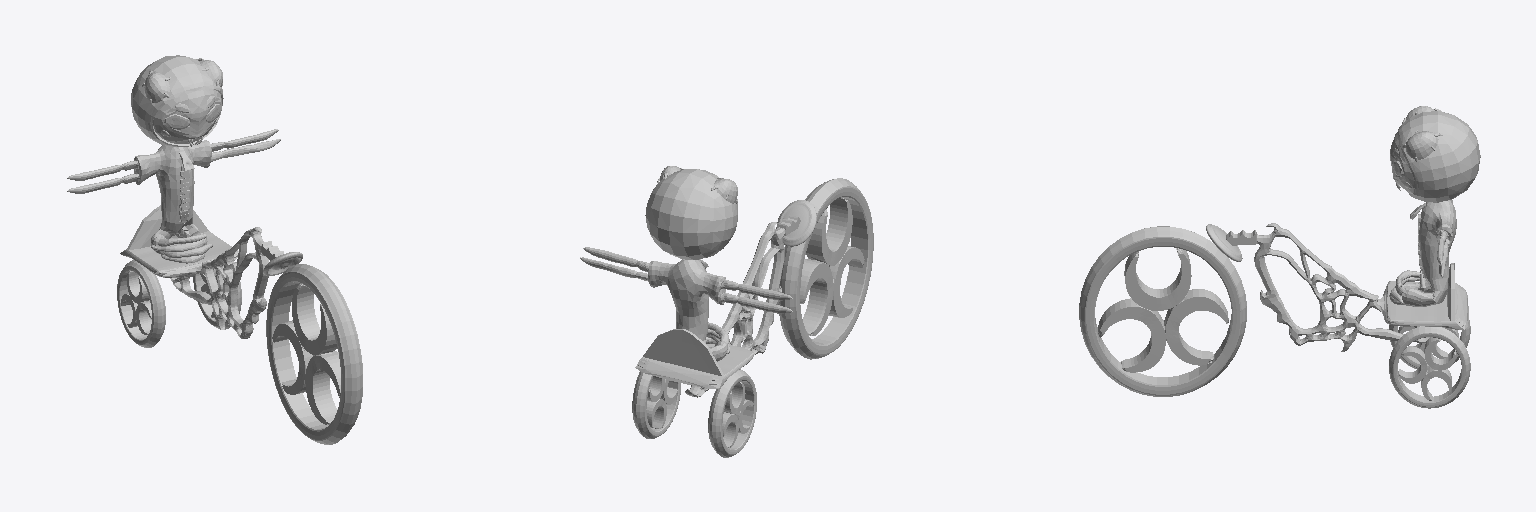
File: Alien T-Pose.obj
3 renders of one model, left to right at view 1: azimuth 30°, elevation 25°; view 2: azimuth 150°, elevation 25°; view 3: azimuth 270°, elevation 25°, orthographic.
Parts seen in each view (by area): view 1: initialShadingGroup AlienGirlMapped:polySurface1, polySurface14 polySurface9, polySurface14, polySurface14 polySurface16; view 2: initialShadingGroup AlienGirlMapped:polySurface1, polySurface14 polySurface9, polySurface14, polySurface14 polySurface16; view 3: polySurface14 polySurface9, initialShadingGroup AlienGirlMapped:polySurface1, polySurface14, polySurface14 polySurface16.
Part boxes in pixels (x1,y1,x2,y2): initialShadingGroup AlienGirlMapped:polySurface1: (67,55,280,263); polySurface14 polySurface9: (266,264,362,444); polySurface14: (120,205,302,338); polySurface14 polySurface16: (117,260,241,347); initialShadingGroup AlienGirlMapped:polySurface1: (580,166,792,361); polySurface14 polySurface9: (778,178,873,359); polySurface14: (635,200,816,397); polySurface14 polySurface16: (632,370,756,457); polySurface14 polySurface9: (1079,226,1246,396); initialShadingGroup AlienGirlMapped:polySurface1: (1389,106,1480,306); polySurface14: (1206,223,1468,351); polySurface14 polySurface16: (1389,317,1470,408).
Bounding box in the file's own units: 5.44 × 6.85 × 8.85.